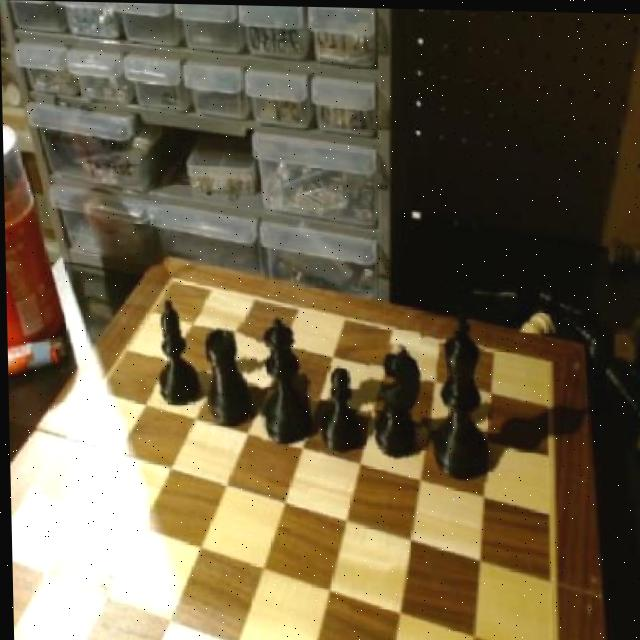bishop: (151, 296, 203, 409)
black-bishop: (420, 309, 489, 484)
black-king: (363, 342, 422, 467)
black-knight: (316, 365, 359, 454)
black-pawn: (253, 312, 308, 440)
black-queen: (199, 322, 247, 423)
